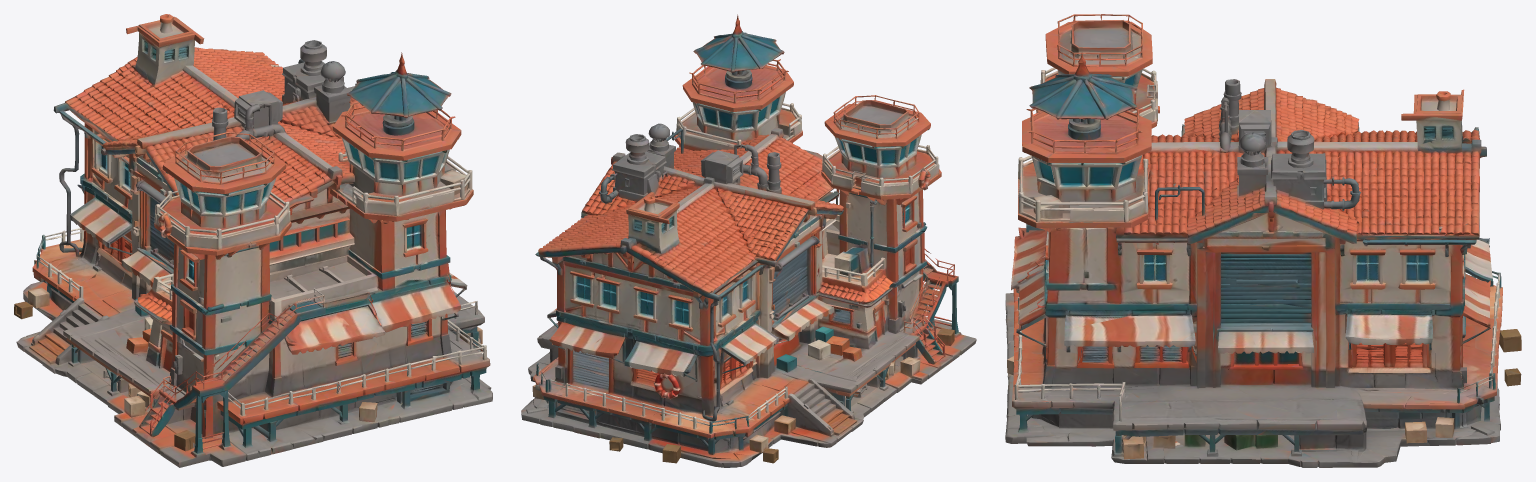
Rendered from harbor-hq-desktop.glb.
3 views of the same model, side by side, from view 1: azimuth 30°, elevation 25°; view 2: azimuth 150°, elevation 25°; view 3: azimuth 270°, elevation 25° (orthographic). The views are drawn at different scales.
Visible parts, largest first — view 1: model; view 2: model; view 3: model.
Part boxes in pixels (bbox=[...]): model: bbox=[14, 14, 492, 467]; model: bbox=[521, 14, 976, 467]; model: bbox=[1005, 14, 1521, 467].
Bounding box in the file's own units: 1.61 × 1.47 × 1.89.
Materials: 1 (1 with a texture image).
